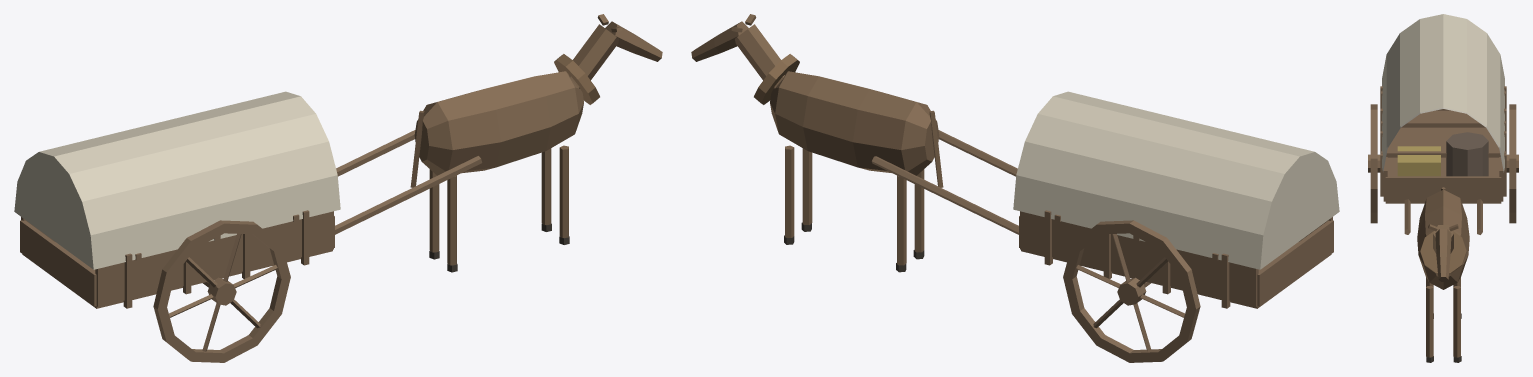
Rendered from merchant_cart.glb.
3 renders of one model, left to right at view 1: azimuth 30°, elevation 25°; view 2: azimuth 150°, elevation 25°; view 3: azimuth 270°, elevation 25°, orthographic. The views are drawn at different scales.
Visible parts, largest first — view 1: merchant_cart; view 2: merchant_cart; view 3: merchant_cart.
Part boxes in pixels (left/top/right/bottom): merchant_cart: left=14, top=14, right=662, bottom=362; merchant_cart: left=691, top=14, right=1339, bottom=362; merchant_cart: left=1368, top=14, right=1518, bottom=362.
Bounding box in the file's own units: 5.65 × 1.8 × 1.57.
